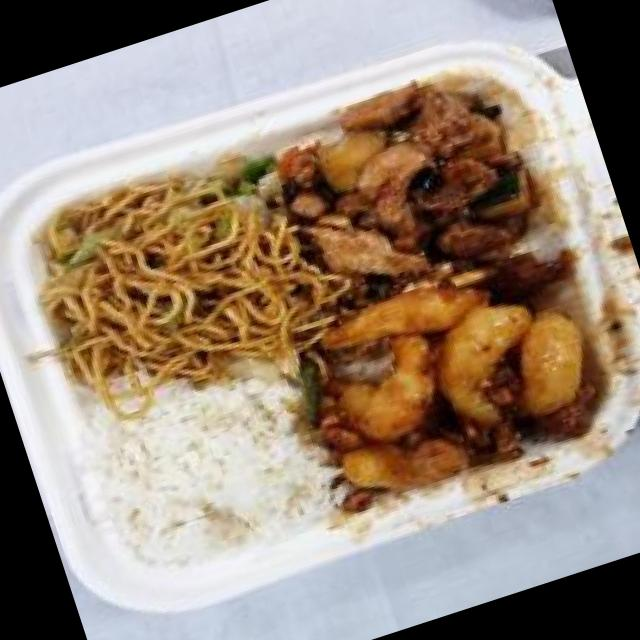Chow Mein: (14, 136, 334, 420)
Honey Walnut Shrimp: (284, 236, 628, 526)
Kung Pao Chicken: (264, 56, 564, 323)
White Steamed Rice: (73, 350, 350, 588)
